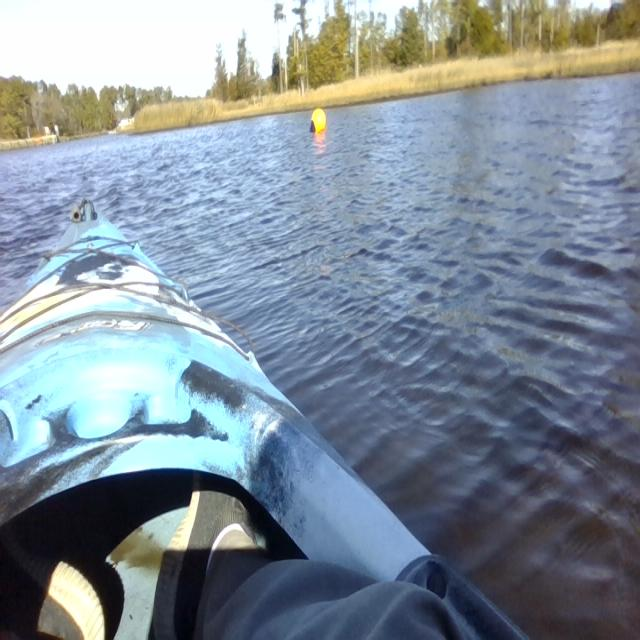Buoy: (305, 104, 330, 139)
